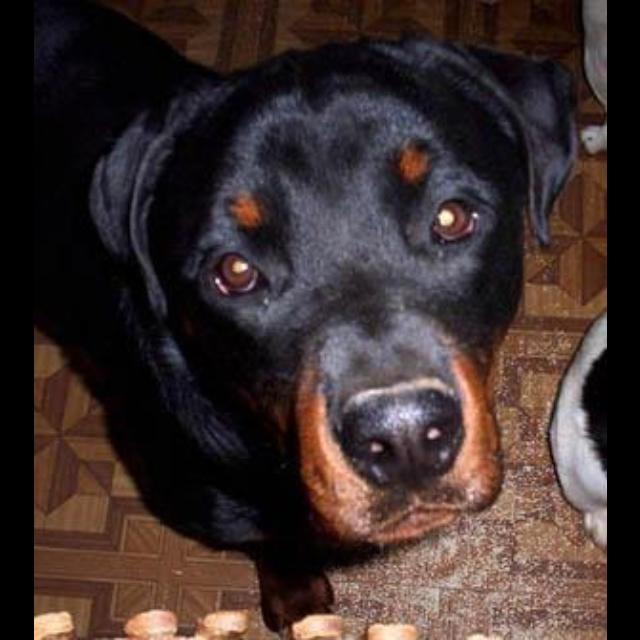rottweiler: (34, 1, 578, 639)
